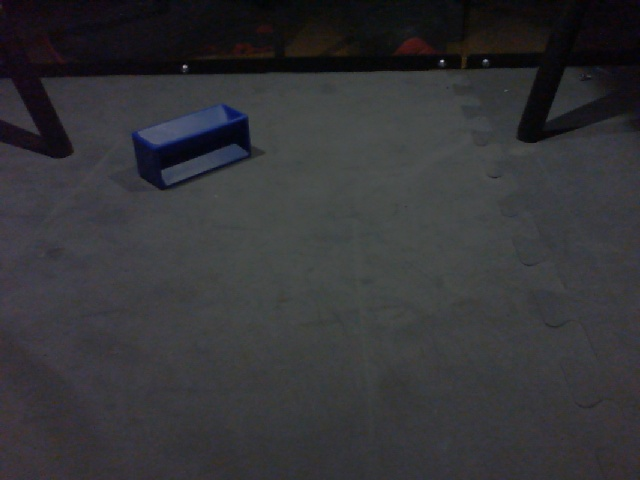BlueSample: (130, 101, 255, 194)
